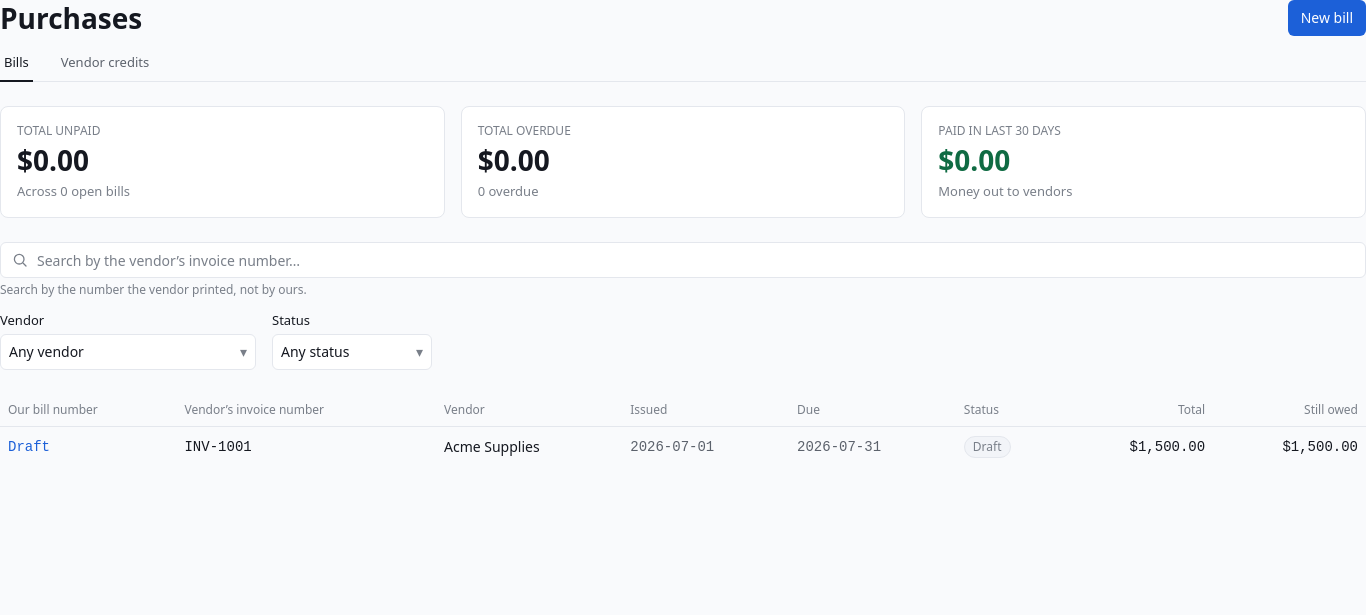
Test: approving › sends one idempotency key across repeated clicks
The width and height of the screenshot is (1366, 615).
Click the button "Draft" at x=29, y=447, box left=8, top=436, right=50, bottom=458
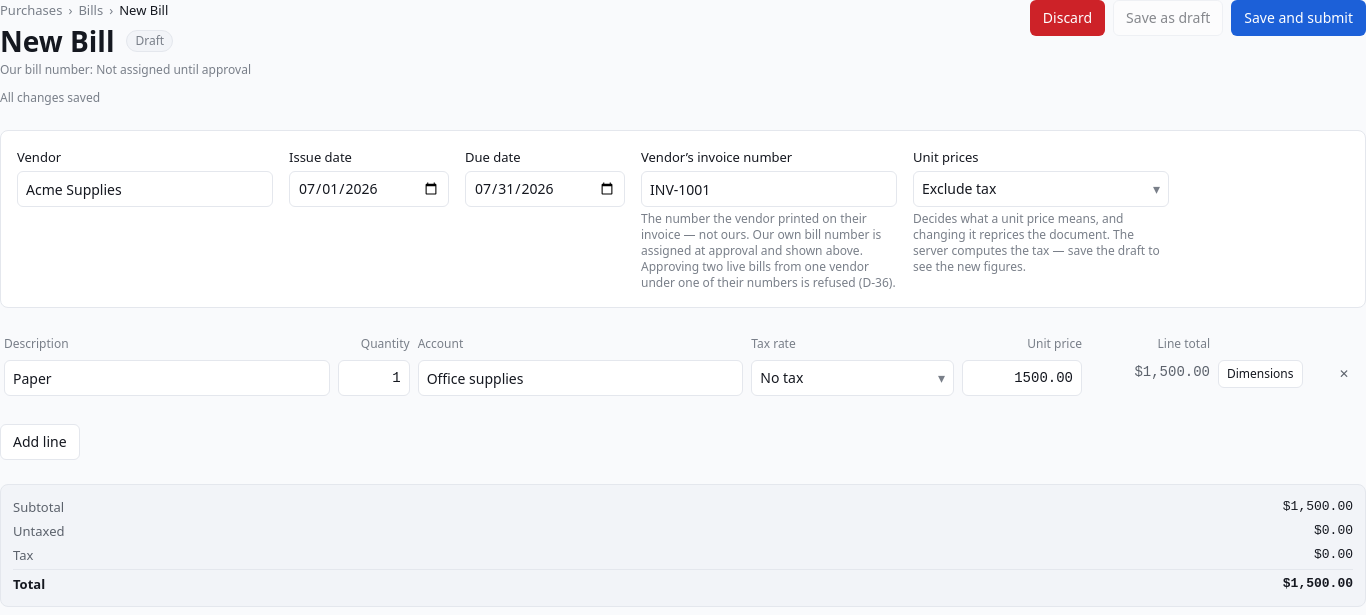
Click the button "Save and submit" at x=1299, y=18, box left=1231, top=0, right=1365, bottom=36
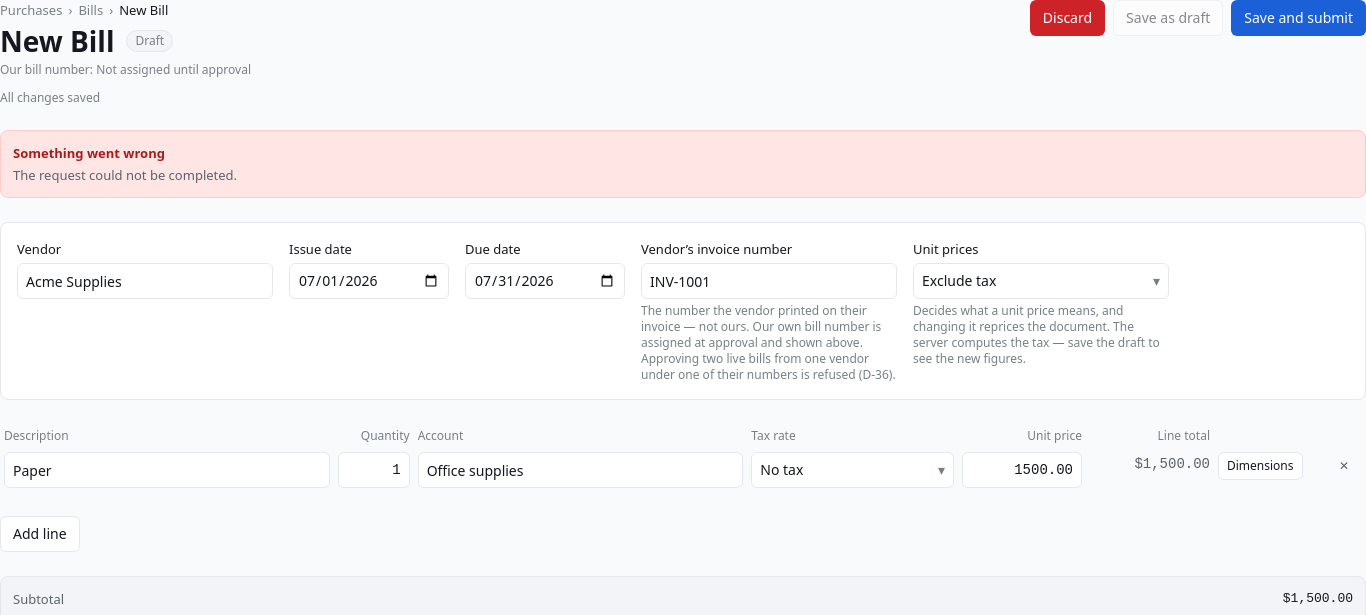
Expected: the text "Something went wrong" is shown, left=13, top=144, right=165, bottom=162
Click the button "Save and submit" at x=1299, y=18, box left=1231, top=0, right=1365, bottom=36
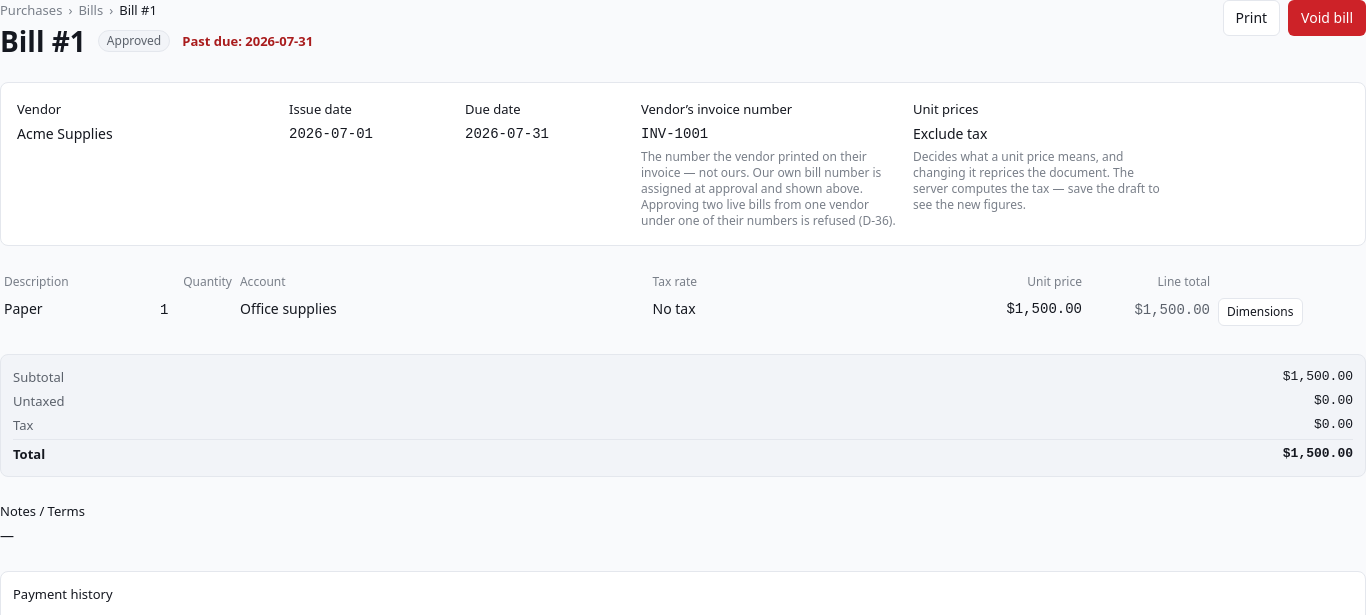
Expected: the button "Void bill" is shown, left=1288, top=0, right=1365, bottom=36
